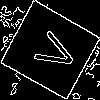V: (25, 25, 80, 77)
